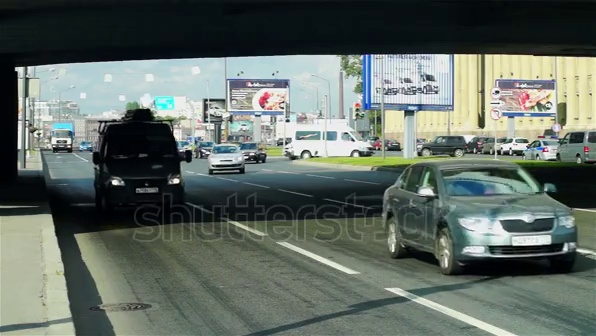licenseplate: (512, 229, 557, 252), (132, 186, 165, 192)
